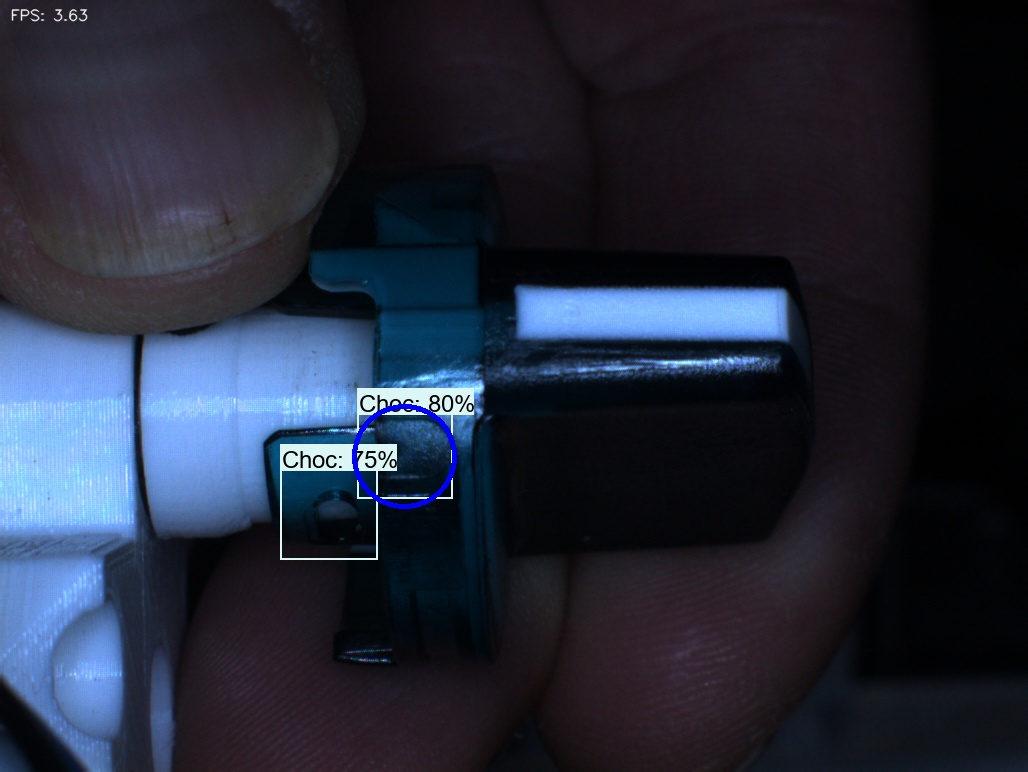DentOk: (356, 175, 416, 235)
